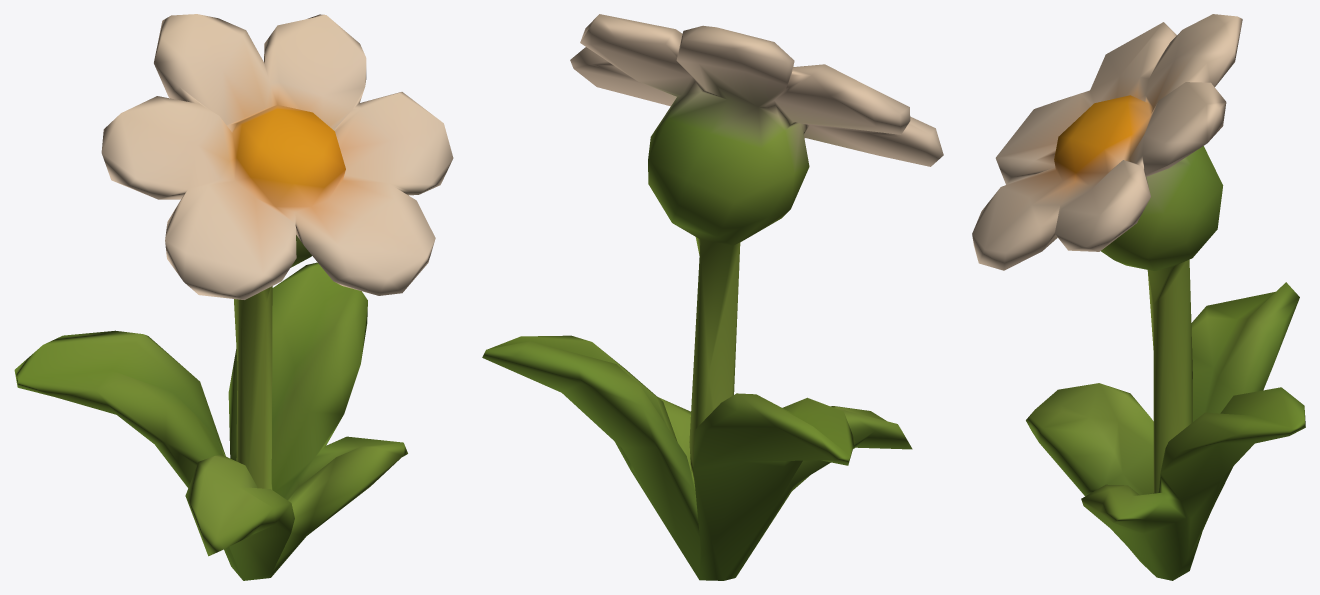
The model's file is daisy_mid.glb.
3 views of the same model, side by side, from view 1: azimuth 30°, elevation 25°; view 2: azimuth 150°, elevation 25°; view 3: azimuth 270°, elevation 25° (orthographic). The views are drawn at different scales.
Size of the model in its own units: 1.24 by 1.91 by 1.08.
